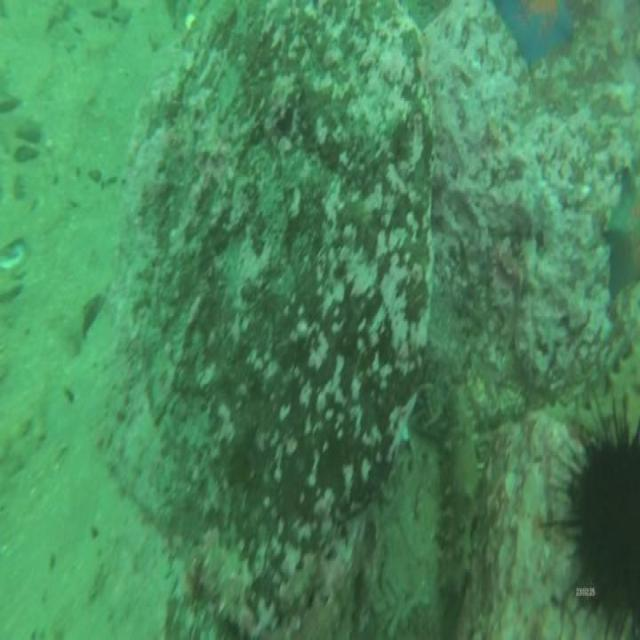echinus: (576, 436, 640, 632)
holothurian: (442, 386, 476, 592)
starfish: (495, 5, 573, 63)
